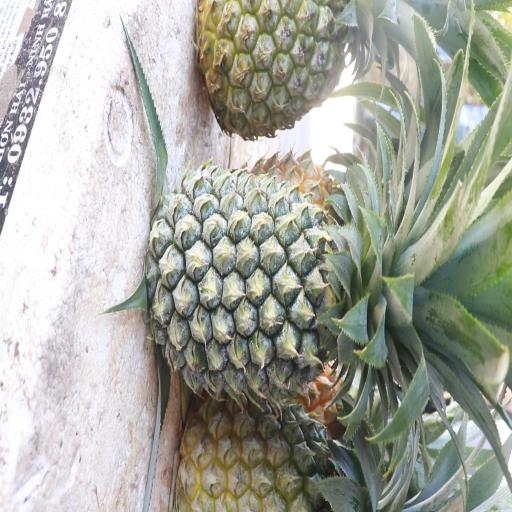------------------------------: (198, 0, 372, 134), (179, 386, 360, 512)
